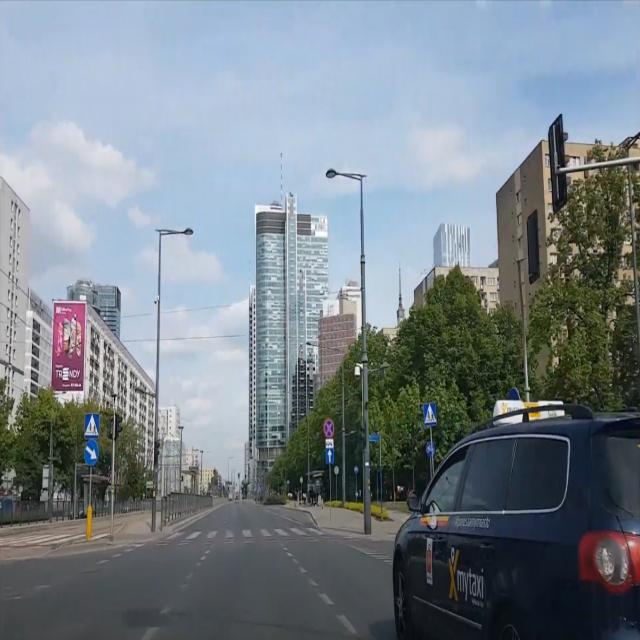Zakaz zatrzymywania sie: (323, 418, 335, 437)
